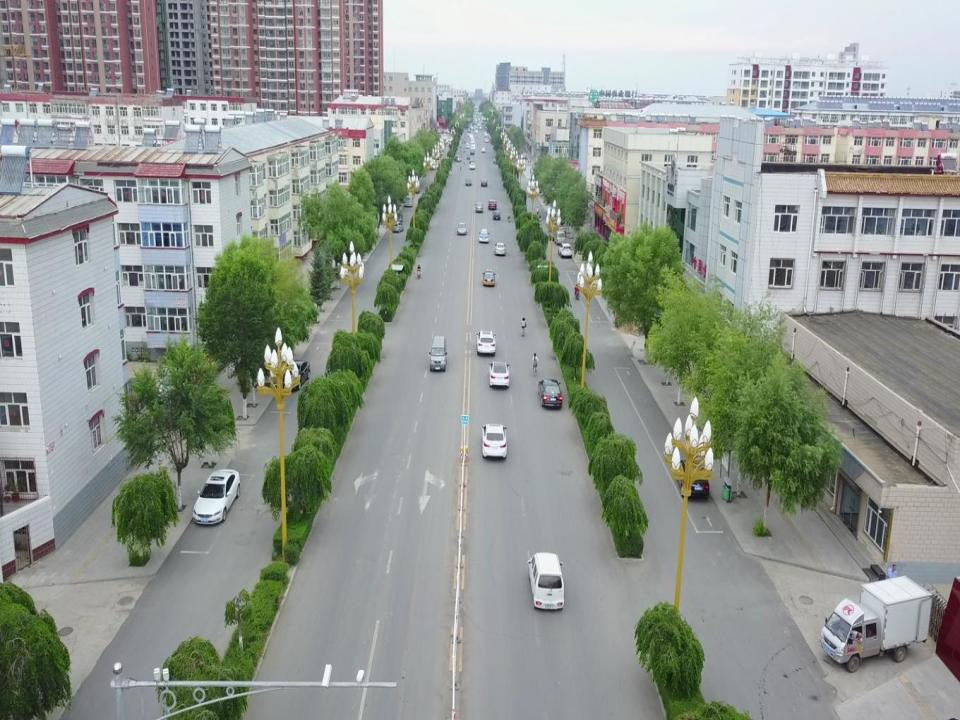car: (193, 469, 240, 524), (675, 459, 709, 499), (278, 360, 310, 391), (480, 424, 507, 459), (538, 378, 562, 408), (488, 360, 510, 390), (476, 330, 496, 356), (482, 269, 496, 286), (558, 243, 572, 258), (479, 228, 489, 243), (392, 221, 404, 233), (495, 243, 506, 255), (457, 222, 467, 235), (393, 213, 403, 225), (475, 202, 484, 213), (488, 199, 497, 210), (548, 230, 557, 241), (493, 210, 501, 220)
truck: (819, 576, 934, 673)
van: (527, 552, 564, 611), (428, 335, 447, 372), (554, 229, 566, 246), (404, 195, 414, 207)
